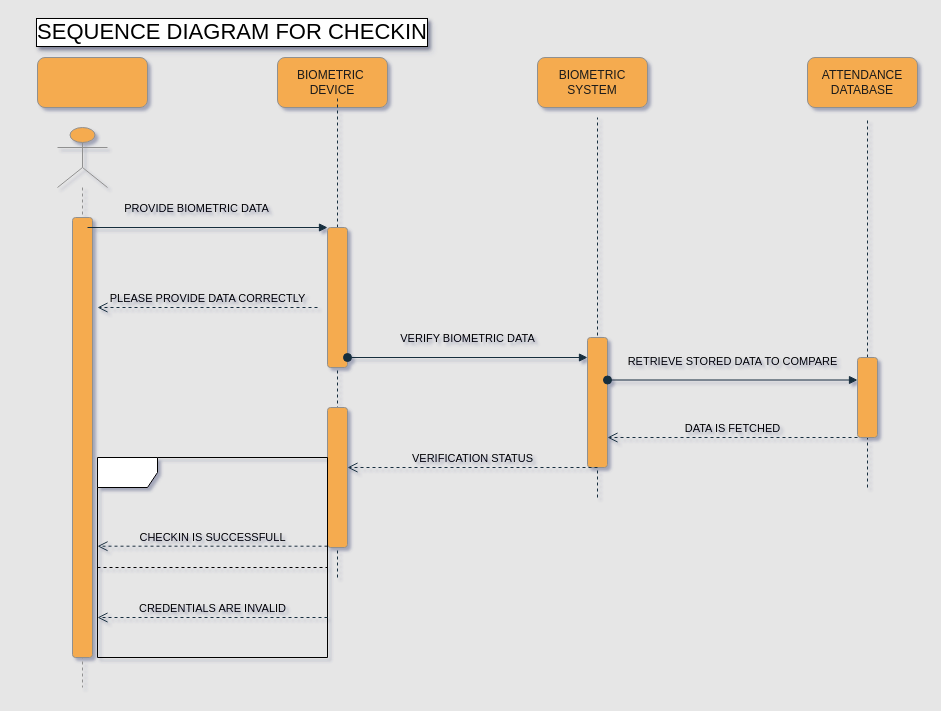
The diagram is 941 pixels wide and 711 high, and some of its shapes have lost their labels. Here are the shapes that lost their labels. From the top down, the centre of each, then its label:
At point (92, 82): "EMPLOYEE".
At point (212, 557): "ALT".
